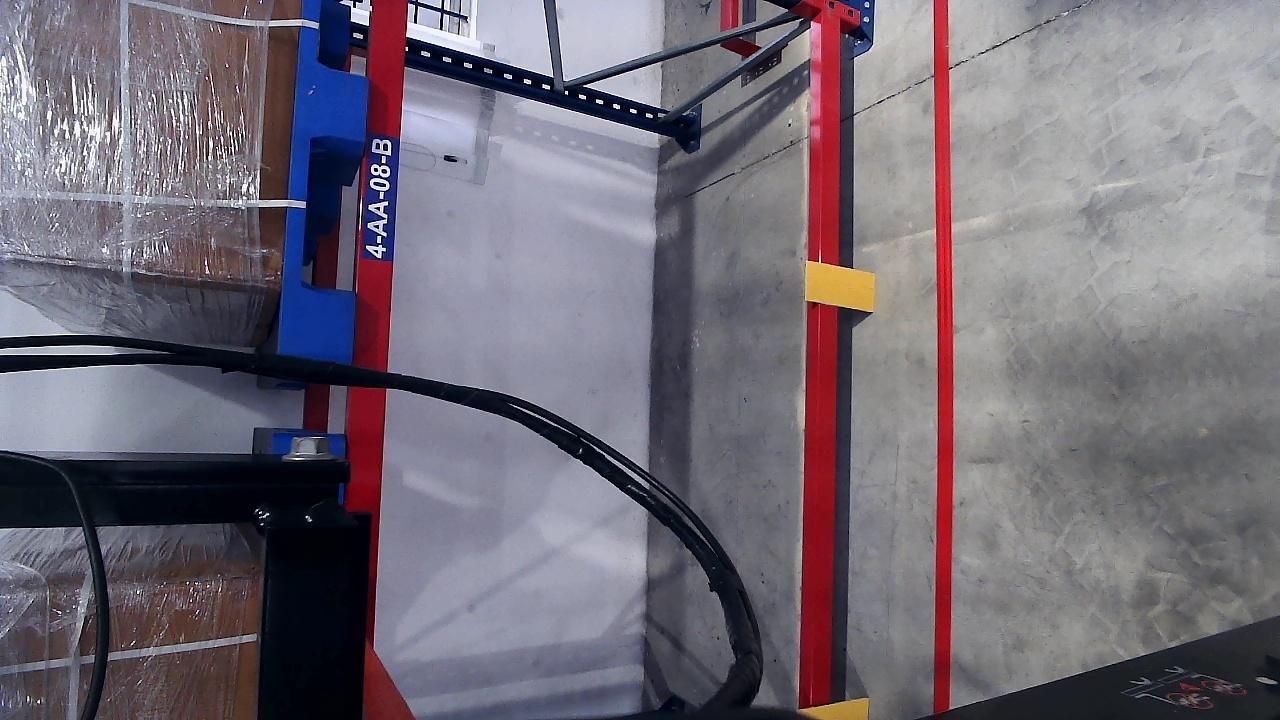h_rack: (802, 6, 854, 623), (351, 0, 413, 510)
orange_strip: (804, 261, 875, 312), (799, 697, 868, 719)
red_line: (931, 6, 955, 623)
small_pallet: (268, 0, 374, 357)
